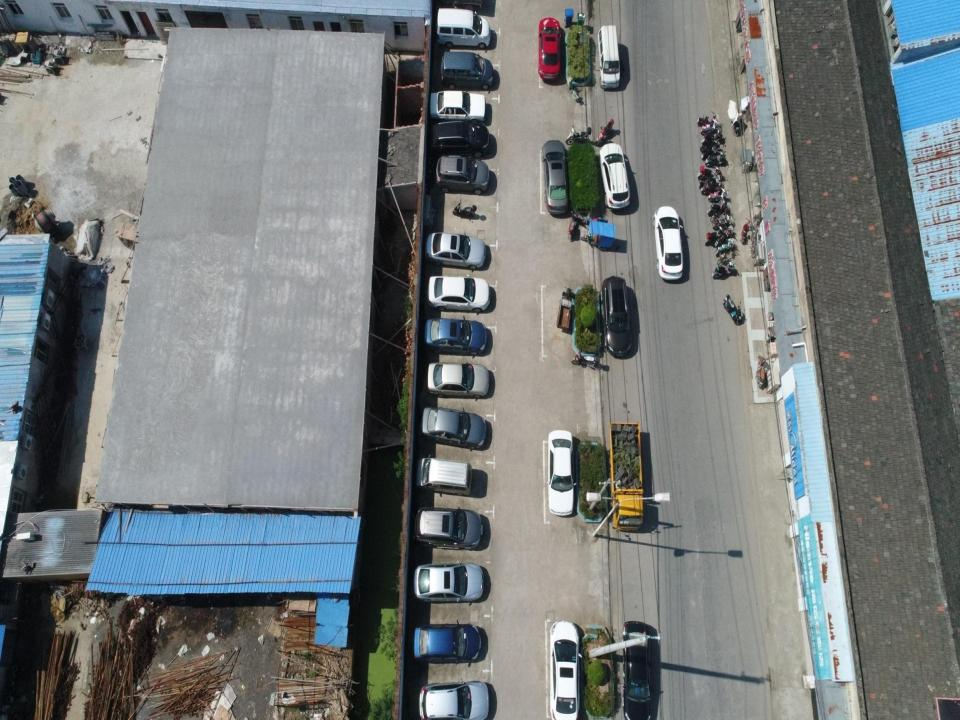car: (549, 620, 582, 720), (414, 504, 482, 548), (421, 404, 486, 450), (414, 563, 484, 604), (413, 622, 481, 664), (623, 621, 651, 719), (600, 275, 633, 357), (419, 682, 488, 719), (427, 276, 490, 313), (547, 430, 574, 516), (653, 205, 683, 282), (424, 318, 488, 354), (426, 233, 486, 271), (428, 363, 489, 400), (598, 143, 631, 211), (539, 140, 568, 216), (436, 155, 489, 194), (432, 121, 489, 156), (430, 89, 485, 125), (441, 51, 493, 89), (538, 16, 560, 81)
truck: (610, 422, 642, 531)
van: (438, 7, 491, 50), (417, 457, 471, 495), (595, 25, 620, 91)
